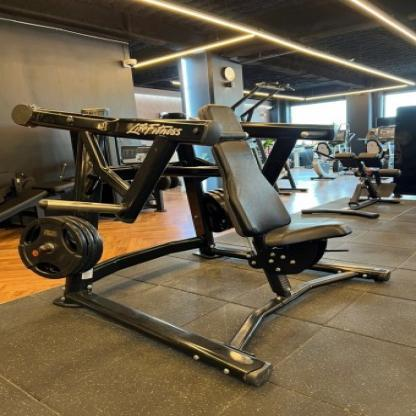shoulder press machine: (5, 58, 415, 416)
